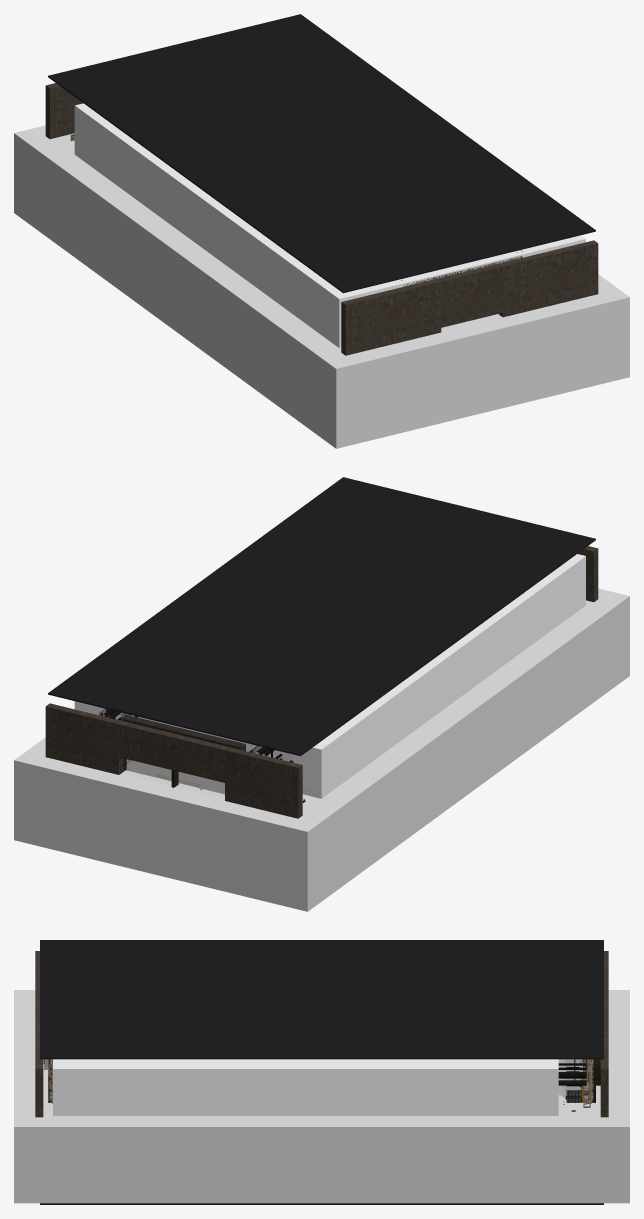
The model's file is cryo.glb.
3 renders of one model, top to bottom at view 1: azimuth 30°, elevation 25°; view 2: azimuth 150°, elevation 25°; view 3: azimuth 270°, elevation 25°, orthographic. The views are drawn at different scales.
Parts seen in each view (by area): view 1: over_ceiling, COL_wall_L, COL_end_s, fog_volume, end_door_wall, COL_end_n, end_window_wall; view 2: over_ceiling, COL_wall_L, COL_end_n, fog_volume, end_window_wall, COL_end_s, ceil_beam_7, end_door_wall; view 3: over_ceiling, COL_wall_R, fog_volume, COL_end_s, COL_end_n, under_floor, end_door_wall, end_window_wall, wall, base_ram_base_ram_albedo_0.
Boxes of the visible parts, left/top/right/bottom form: over_ceiling: left=48, top=14, right=595, bottom=293; COL_wall_L: left=22, top=133, right=375, bottom=441; COL_end_s: left=318, top=284, right=629, bottom=448; fog_volume: left=74, top=103, right=585, bottom=348; end_door_wall: left=341, top=240, right=598, bottom=355; COL_end_n: left=14, top=125, right=73, bottom=225; end_window_wall: left=45, top=83, right=82, bottom=138; over_ceiling: left=48, top=477, right=595, bottom=756; COL_wall_L: left=265, top=596, right=621, bottom=905; COL_end_n: left=14, top=748, right=325, bottom=911; fog_volume: left=74, top=554, right=585, bottom=798; end_window_wall: left=45, top=703, right=302, bottom=818; COL_end_s: left=586, top=588, right=629, bottom=687; ceil_beam_7: left=121, top=715, right=245, bottom=750; end_door_wall: left=577, top=546, right=598, bottom=601; over_ceiling: left=40, top=940, right=603, bottom=1059; COL_wall_R: left=30, top=1103, right=613, bottom=1203; fog_volume: left=53, top=1059, right=558, bottom=1115; COL_end_s: left=14, top=990, right=47, bottom=1203; COL_end_n: left=596, top=990, right=629, bottom=1203; under_floor: left=40, top=1090, right=603, bottom=1204; end_door_wall: left=35, top=951, right=43, bottom=1117; end_window_wall: left=600, top=951, right=608, bottom=1117; wall: left=558, top=1059, right=586, bottom=1111; base_ram_base_ram_albedo_0: left=580, top=1059, right=592, bottom=1107.
Bounding box in the file's own units: 10 × 5 × 19.
17 materials, 7 textured.
